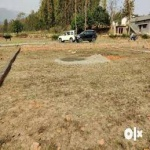Road: (4, 42, 123, 147)
